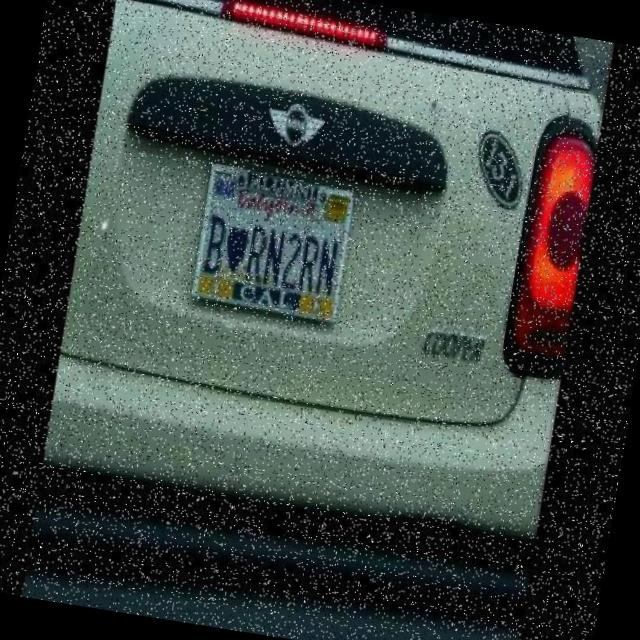LicensePlate: (192, 172, 358, 322)
